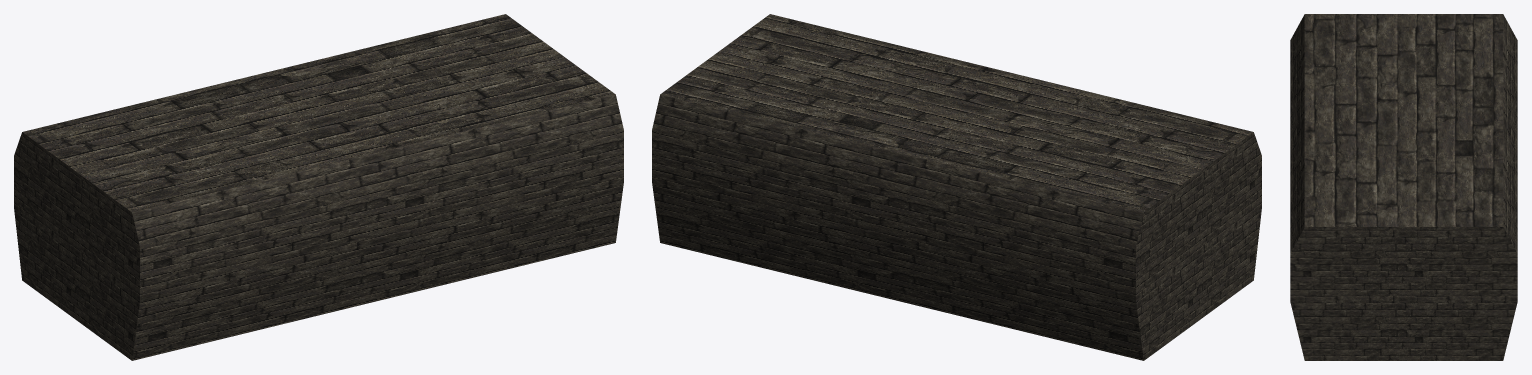
Rendered from RampantTopPiece.fbx.
3 renders of one model, left to right at view 1: azimuth 30°, elevation 25°; view 2: azimuth 150°, elevation 25°; view 3: azimuth 270°, elevation 25°, orthographic. The views are drawn at different scales.
Parts seen in each view (by area): view 1: Top; view 2: Top; view 3: Top.
Boxes of the visible parts, x1,y1,x2,y2 form: Top: (14,14,623,360); Top: (652,14,1261,360); Top: (1290,14,1517,360).
Bounding box in the file's own units: 22.14 × 6.49 × 9.99.
1 material, 1 textured.
